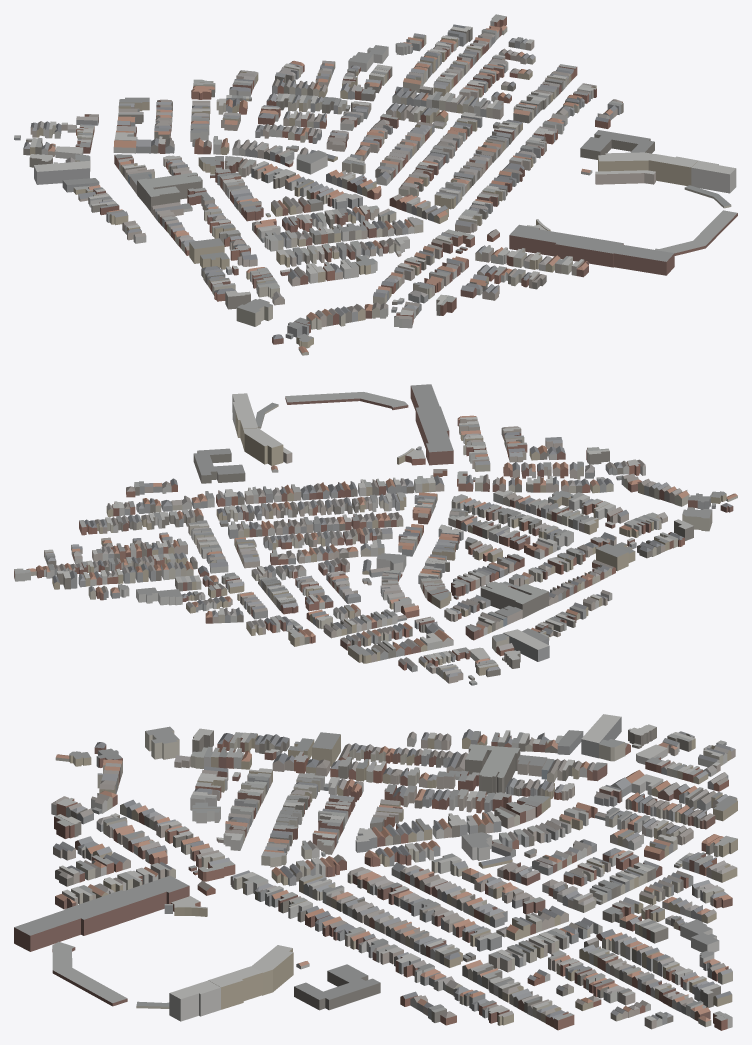
The picture shows the model from 3 angles, top to bottom: view 1: azimuth 30°, elevation 25°; view 2: azimuth 150°, elevation 25°; view 3: azimuth 270°, elevation 25°; orthographic projection. The views are drawn at different scales.
Parts seen in each view (by area): view 1: way/187065958, way/264363954, way/392434762, way/288397744, way/288397746, way/268178793, way/187065953, way/187065951, way/632267348, way/264369951, way/999494167, way/365612809 (+1 smaller); view 2: way/187065958, way/264363954, way/392434762, way/187065953, way/187065951, way/268178793, way/999494167, way/104551657, way/264369951; view 3: way/187065958, way/392434762, way/264363954, way/288397744, way/187065953, way/288397746, way/187065951, way/268178793, way/264369951, way/999494167, way/365612809, way/104551657 (+3 smaller).
Boxes of the visible parts, bbox=[...] form: way/187065958: bbox=[509, 224, 674, 275]; way/264363954: bbox=[137, 172, 202, 211]; way/392434762: bbox=[580, 130, 654, 159]; way/288397744: bbox=[691, 160, 736, 193]; way/288397746: bbox=[648, 154, 697, 185]; way/268178793: bbox=[34, 161, 89, 184]; way/187065953: bbox=[655, 210, 737, 255]; way/187065951: bbox=[598, 152, 654, 171]; way/632267348: bbox=[595, 170, 655, 184]; way/264369951: bbox=[236, 298, 272, 326]; way/999494167: bbox=[348, 45, 388, 71]; way/365612809: bbox=[296, 150, 327, 174]; way/187065958: bbox=[410, 384, 453, 465]; way/264363954: bbox=[480, 581, 548, 618]; way/392434762: bbox=[193, 448, 245, 483]; way/187065953: bbox=[285, 392, 408, 409]; way/187065951: bbox=[243, 428, 283, 465]; way/268178793: bbox=[503, 629, 549, 661]; way/999494167: bbox=[136, 587, 182, 605]; way/104551657: bbox=[596, 543, 628, 571]; way/264369951: bbox=[682, 507, 712, 531]; way/187065958: bbox=[14, 875, 189, 951]; way/392434762: bbox=[294, 964, 380, 1010]; way/264363954: bbox=[465, 744, 520, 794]; way/288397744: bbox=[169, 980, 220, 1021]; way/187065953: bbox=[52, 941, 127, 1006]; way/288397746: bbox=[208, 966, 262, 1009]; way/187065951: bbox=[251, 945, 293, 995]; way/268178793: bbox=[581, 714, 621, 758]; way/264369951: bbox=[145, 726, 179, 759]; way/999494167: bbox=[680, 919, 719, 952]; way/365612809: bbox=[461, 832, 492, 860]; way/104551657: bbox=[312, 732, 340, 766].
Bounding box in the file's own units: 528 × 29.61 × 543.
